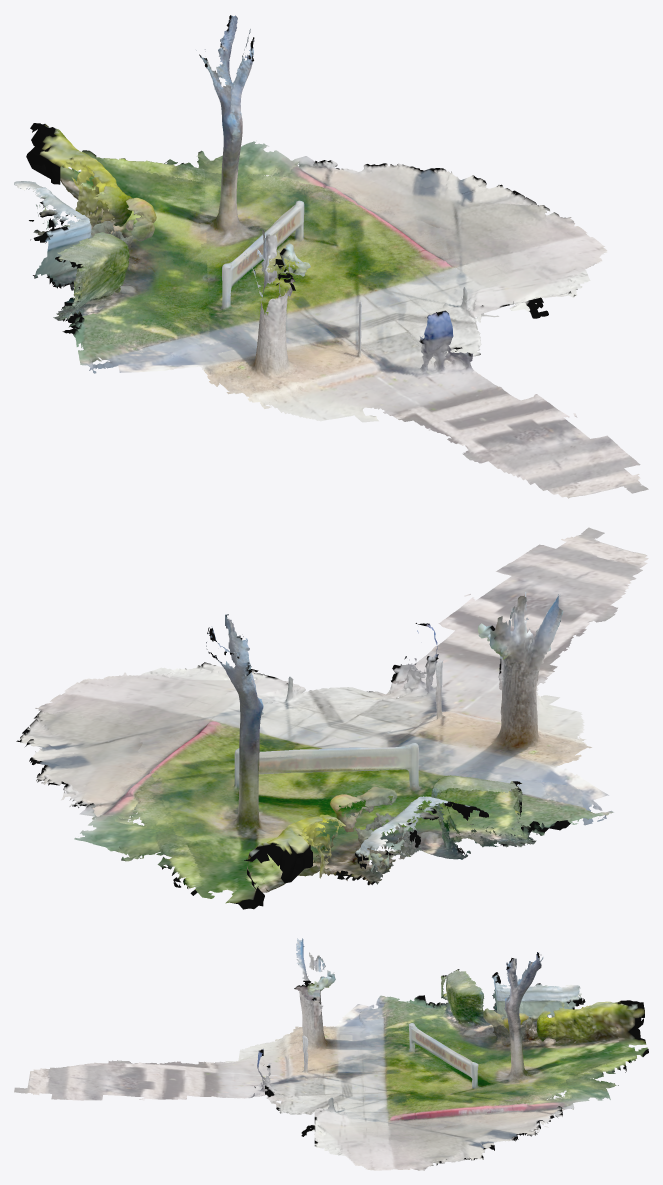
3 views of the same model, one above another, from view 1: azimuth 30°, elevation 25°; view 2: azimuth 150°, elevation 25°; view 3: azimuth 270°, elevation 25° (orthographic). The views are drawn at different scales.
Bounding box in the file's own units: 12.77 × 5.05 × 19.89.
